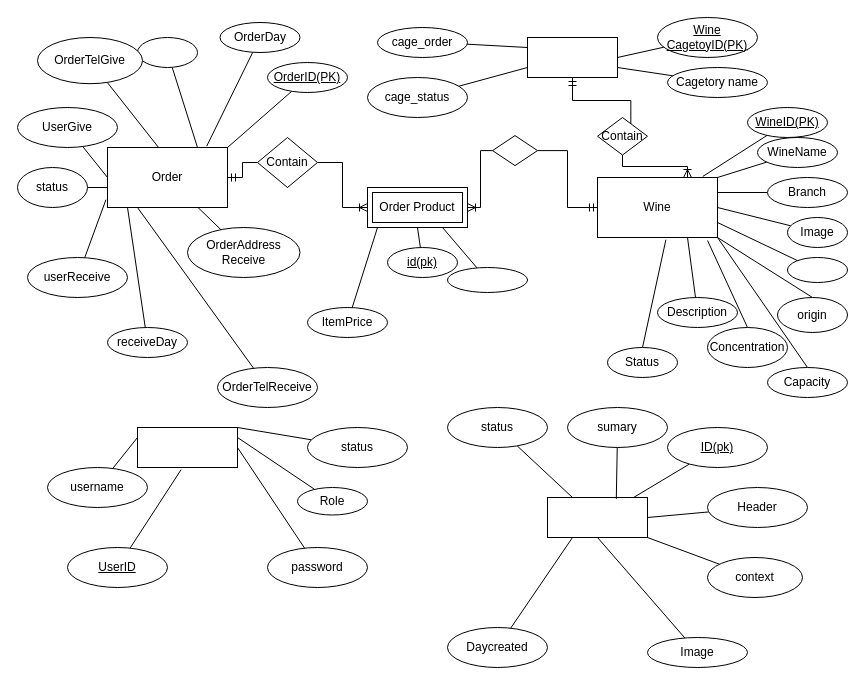
The diagram is 865 pixels wide and 685 high, and some of its shapes have lost their labels. Here are the shapes that lost their labels. From the top down, the centre of each, then its label:
pixel 167 52: Note
pixel 572 57: Wine Cagetory
pixel 515 150: have
pixel 487 279: ItemQty
pixel 817 269: Price
pixel 187 447: User
pixel 597 517: News
